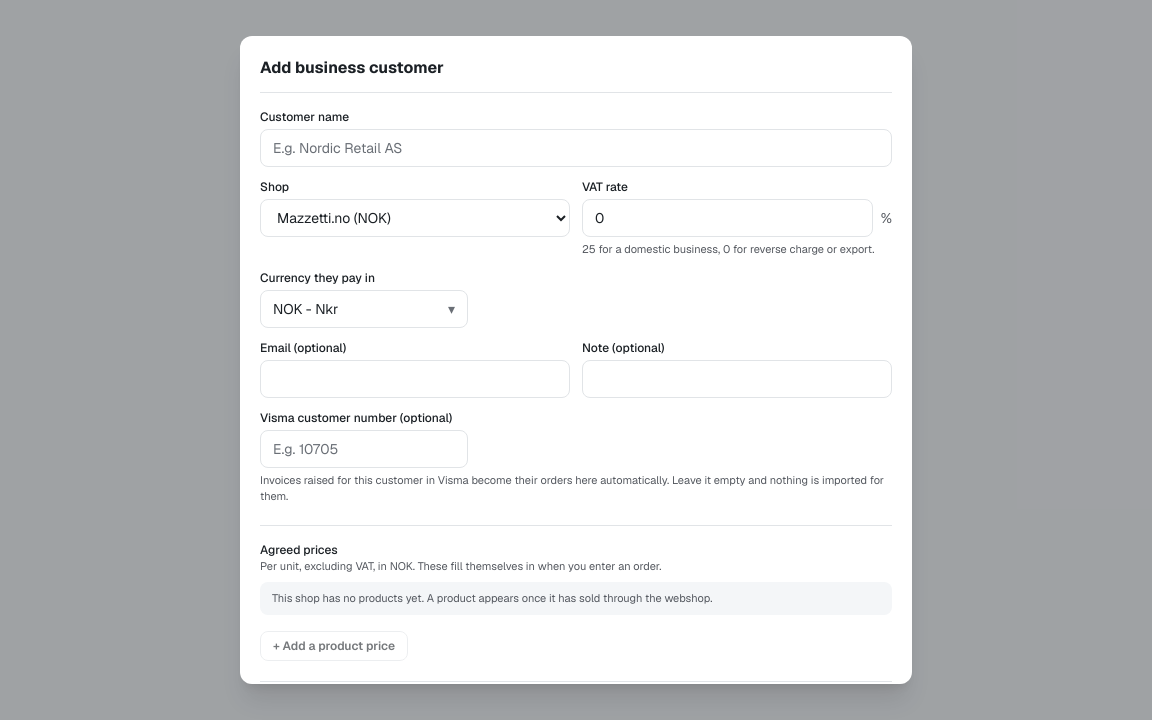
Test: CustomerModal › leaves Save enabled when creating a new customer, since there is nothing to load
Expected: the heading "Add business customer" is shown, [260,56,892,93]
Step 1. Type "New Co" into the field labelled "Customer name" → (576, 148), box [260,129,892,167]
(page scrolled)
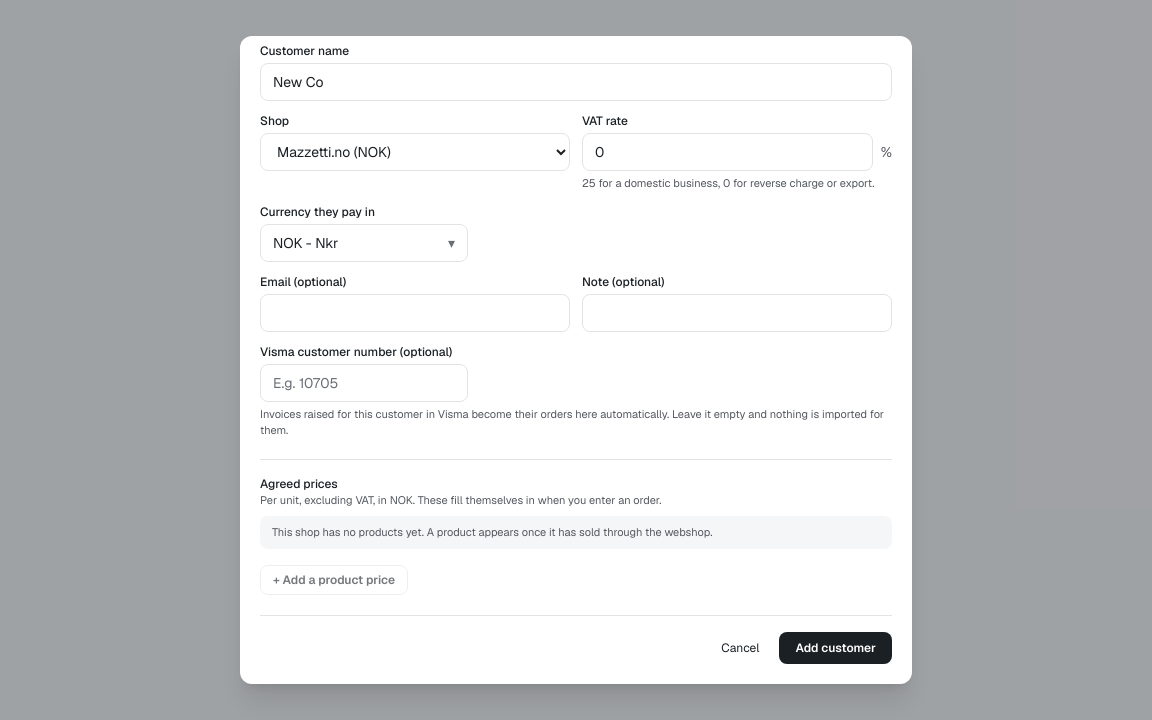
Expected: the button "Add customer" is enabled, [780,632,892,664]
